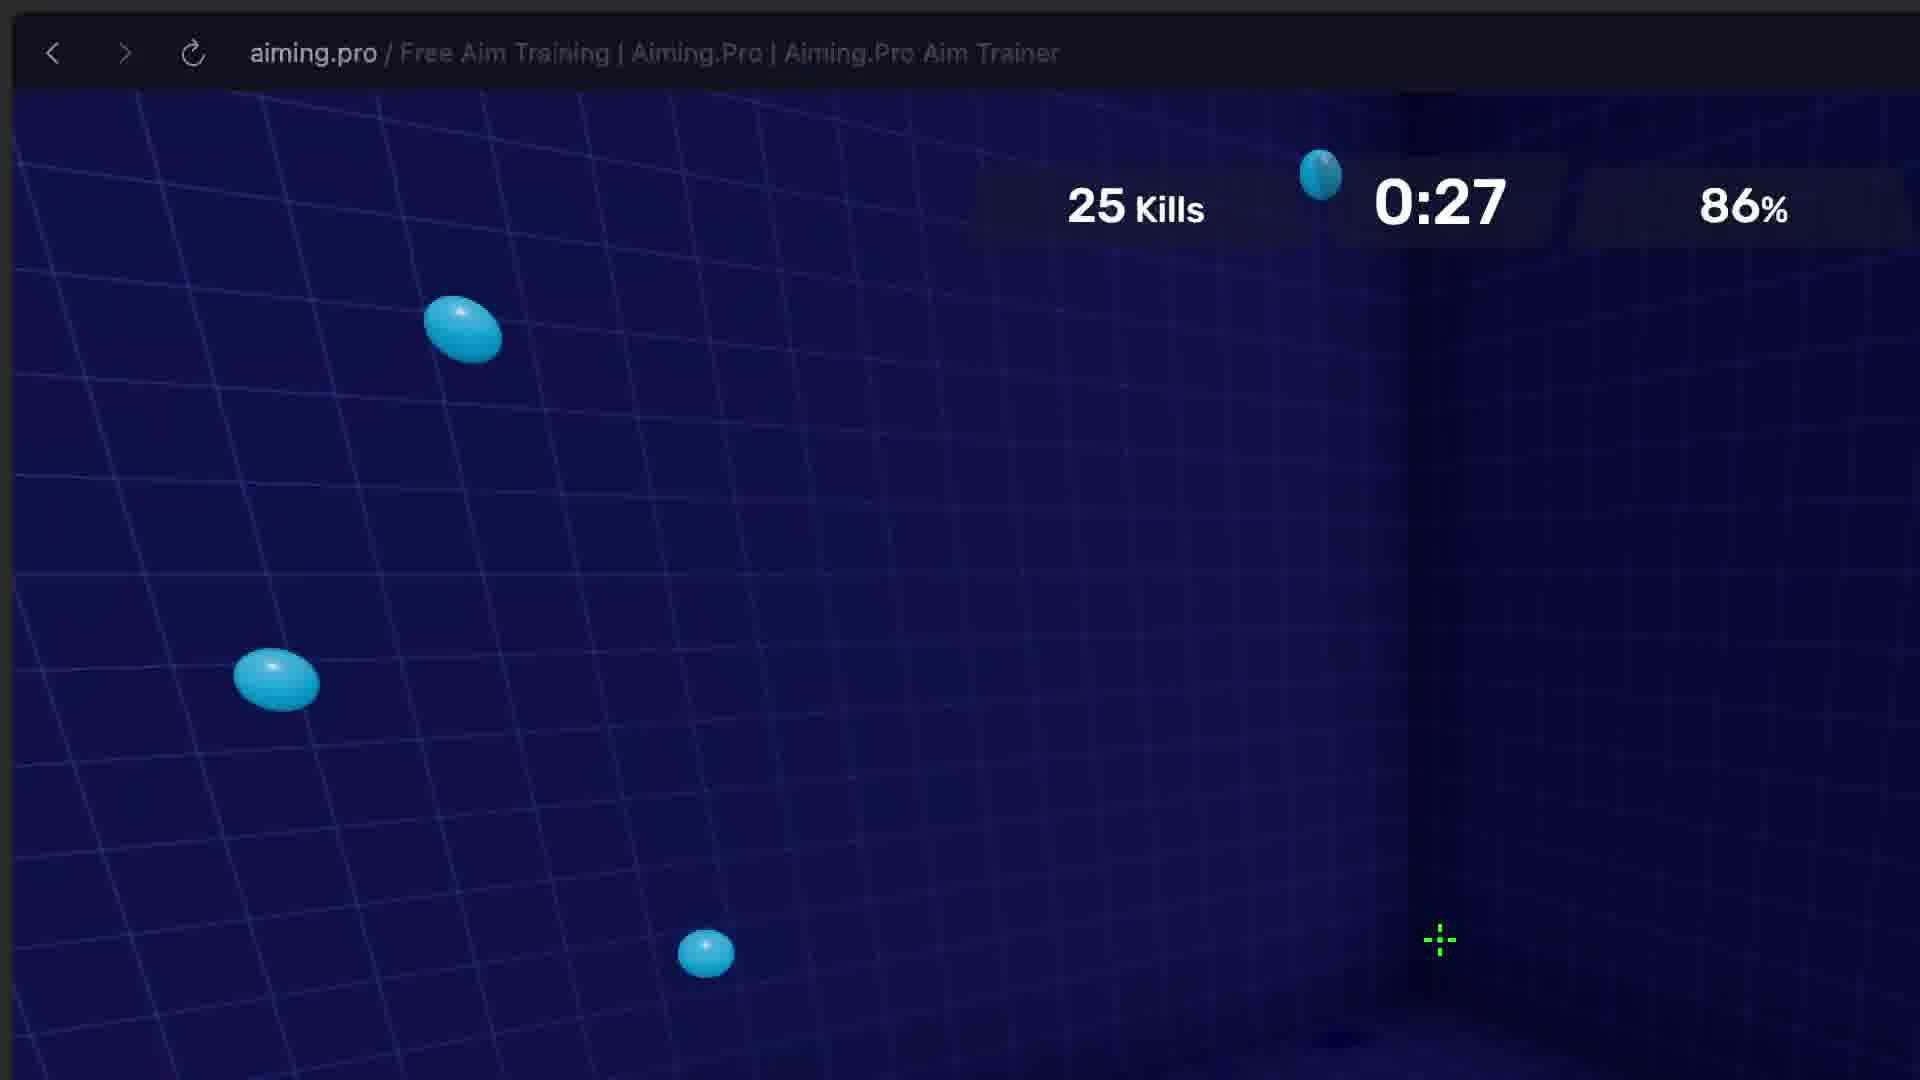target: (233, 647, 319, 711), (425, 295, 502, 364), (678, 928, 735, 978), (1300, 148, 1342, 200), (1487, 178, 1505, 214)
